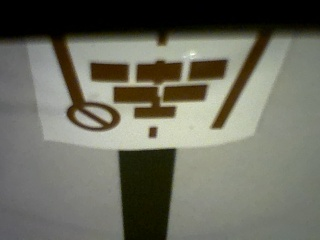Clearing_Zone: (48, 34, 276, 139)
